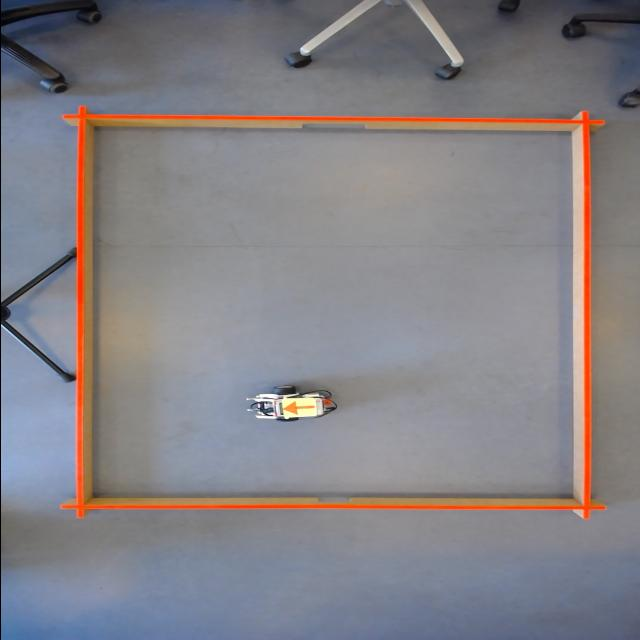robot: (280, 398, 320, 417)
